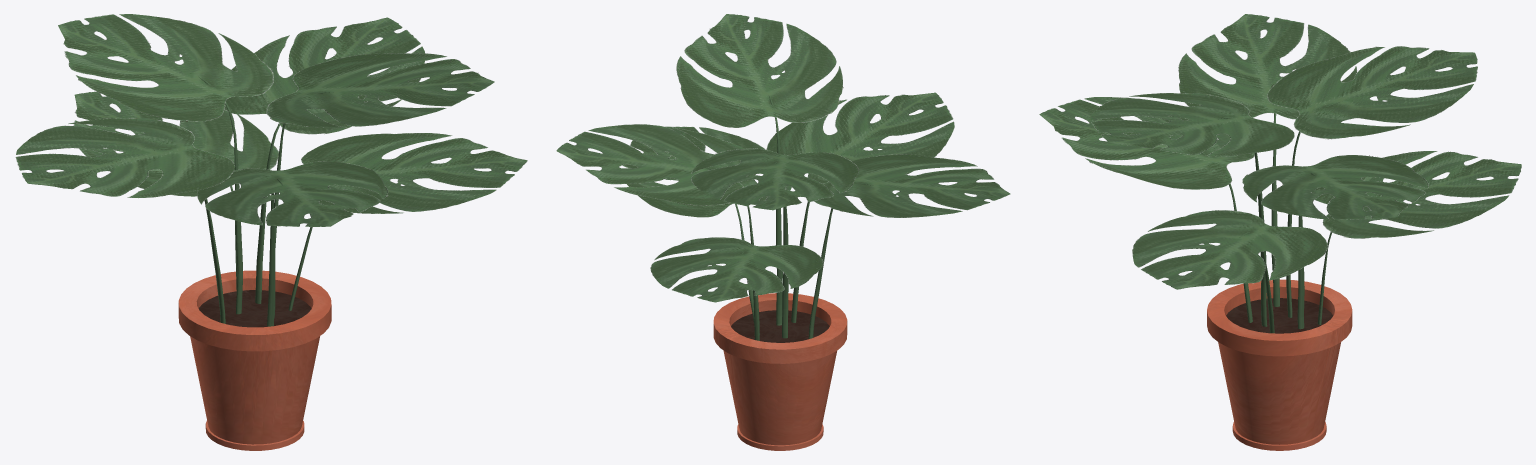
The model's file is monstera.gltf.
3 views of the same model, side by side, from view 1: azimuth 30°, elevation 25°; view 2: azimuth 150°, elevation 25°; view 3: azimuth 270°, elevation 25° (orthographic). The views are drawn at different scales.
Parts seen in each view (by area): view 1: Circle; view 2: Circle; view 3: Circle.
Part boxes in pixels (bbox=[...]): Circle: bbox=[15, 14, 527, 450]; Circle: bbox=[556, 14, 1010, 450]; Circle: bbox=[1039, 14, 1521, 450].
Bounding box in the file's own units: 18.82 × 14.59 × 17.84.
Materials: 1 (1 with a texture image).
